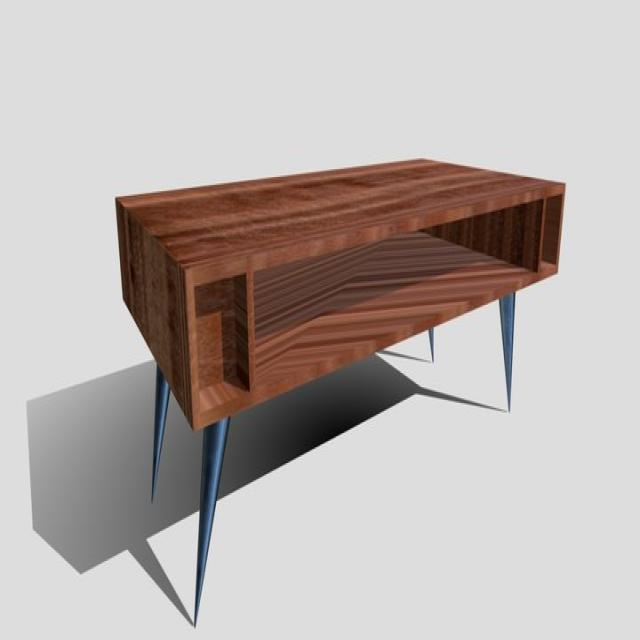table: (116, 151, 565, 628)
